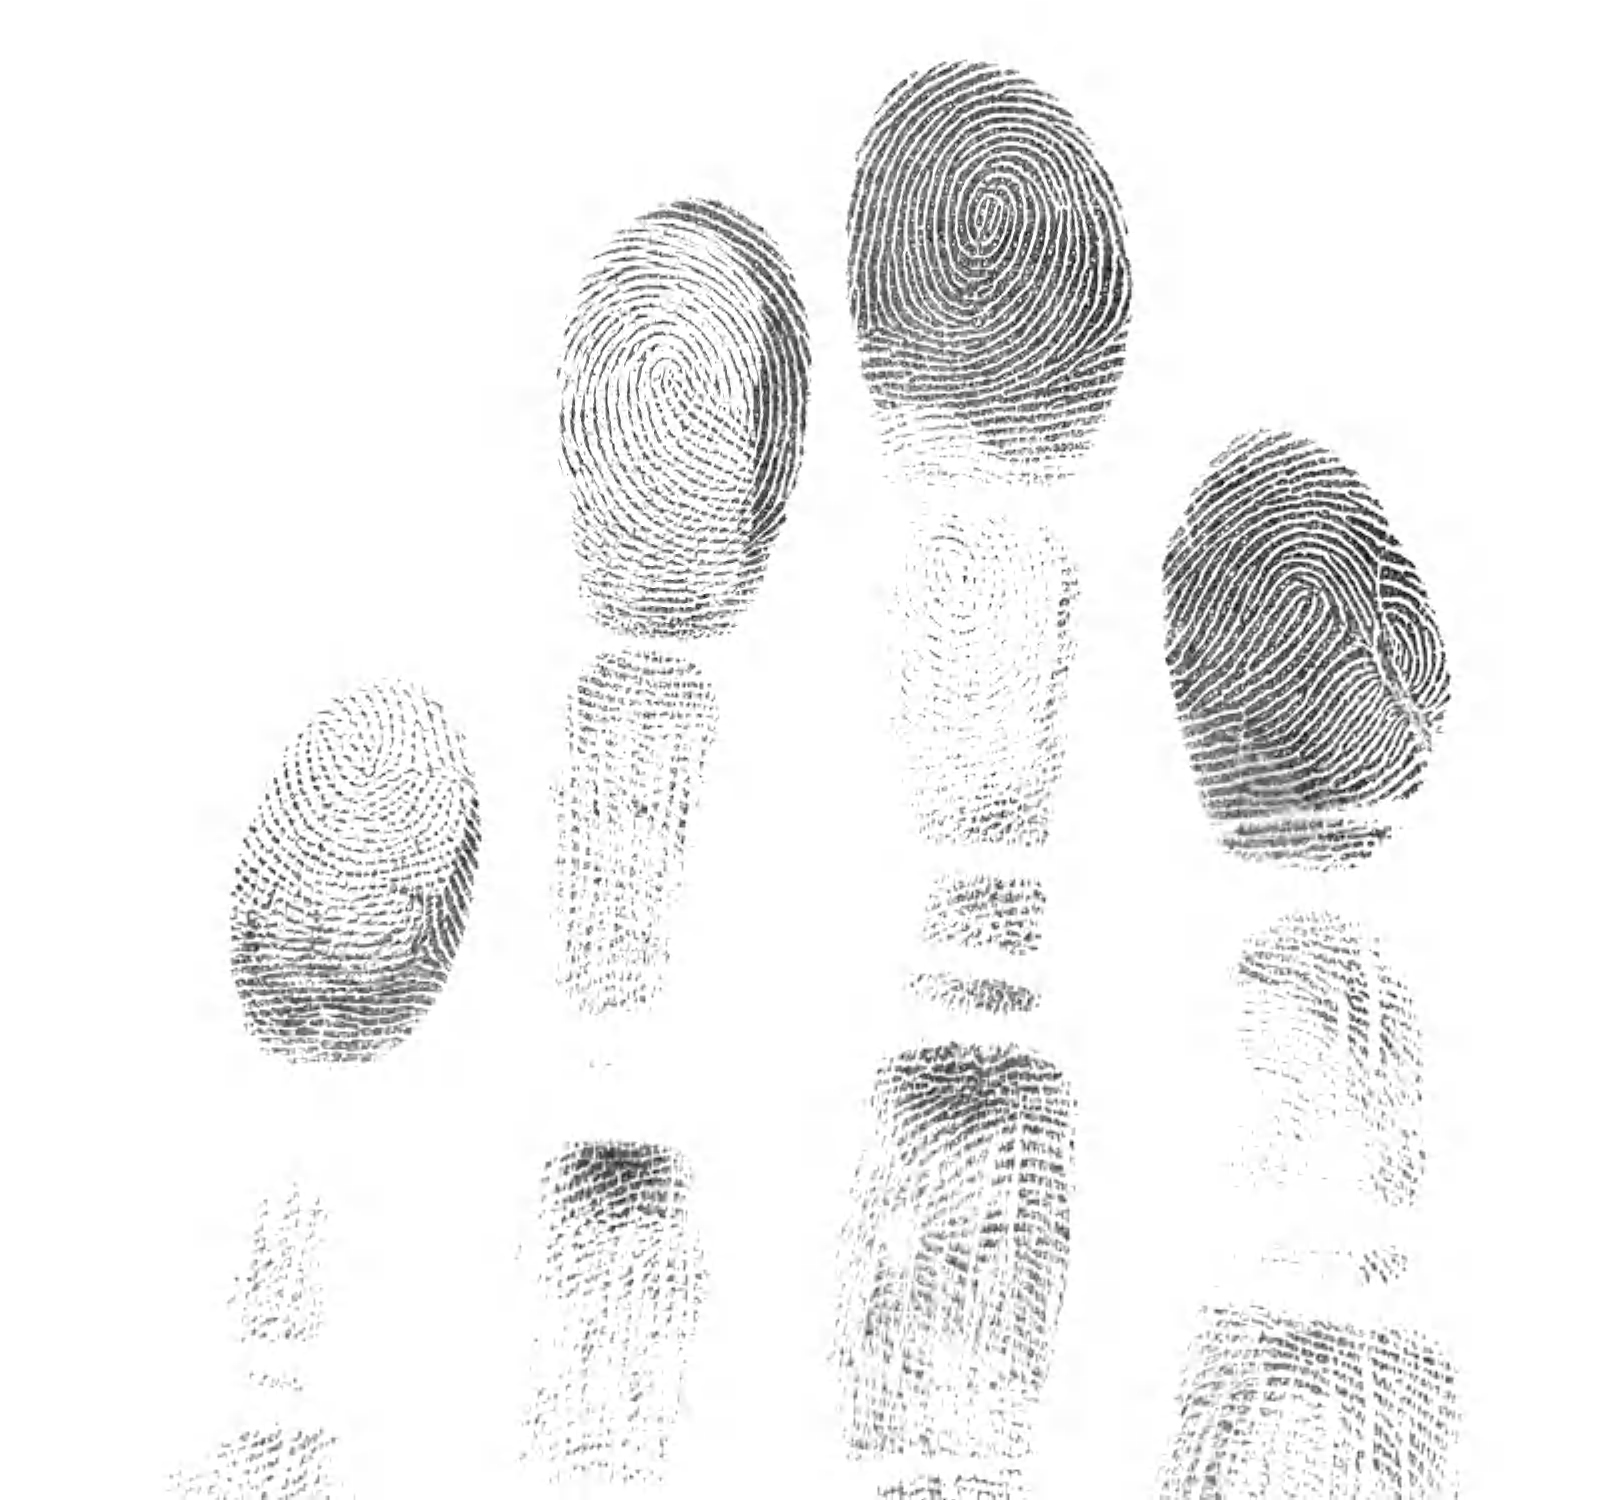distal: (1133, 413, 1477, 875), (830, 47, 1155, 500), (536, 185, 818, 648), (207, 654, 485, 1102)
proximal: (1193, 885, 1501, 1281), (864, 488, 1095, 950), (527, 639, 744, 1016)
